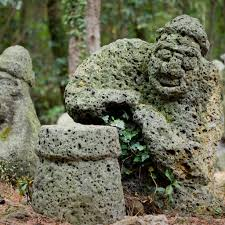Stone Statue: (43, 13, 225, 223), (0, 42, 55, 200)
